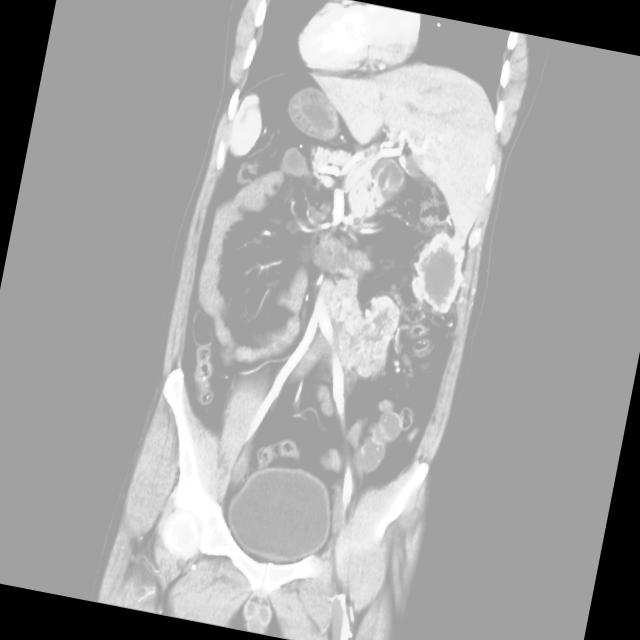TUMOR: (75, 103, 504, 451)
